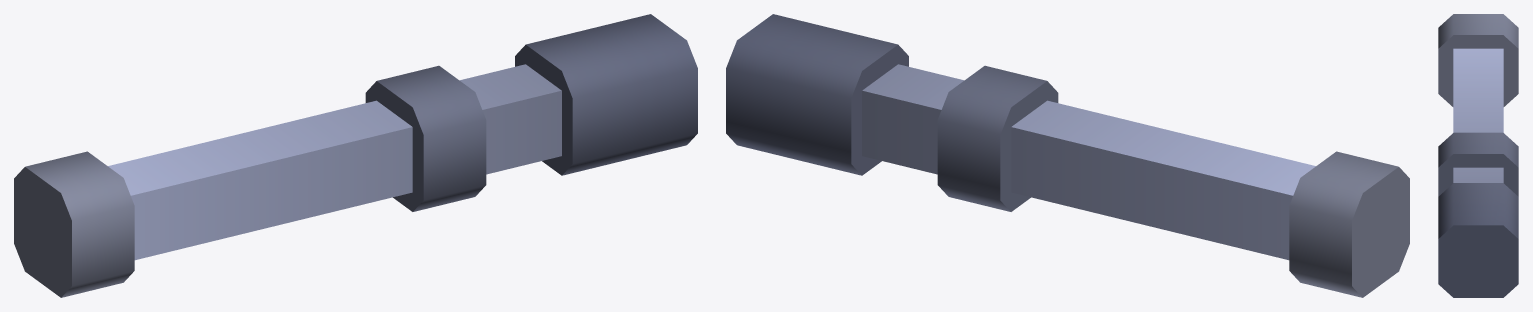
The model's file is beam.glb.
The picture shows the model from 3 angles, left to right: view 1: azimuth 30°, elevation 25°; view 2: azimuth 150°, elevation 25°; view 3: azimuth 270°, elevation 25°; orthographic projection. The views are drawn at different scales.
Parts seen in each view (by area): view 1: pillar-stone; view 2: pillar-stone; view 3: pillar-stone.
Part boxes in pixels (box(x1,y1,x2,y2)): pillar-stone: box(14, 14, 697, 297); pillar-stone: box(726, 14, 1409, 297); pillar-stone: box(1438, 14, 1518, 297).
Size of the model in its own units: 1 by 0.16 by 0.16.
1 material, 1 textured.
